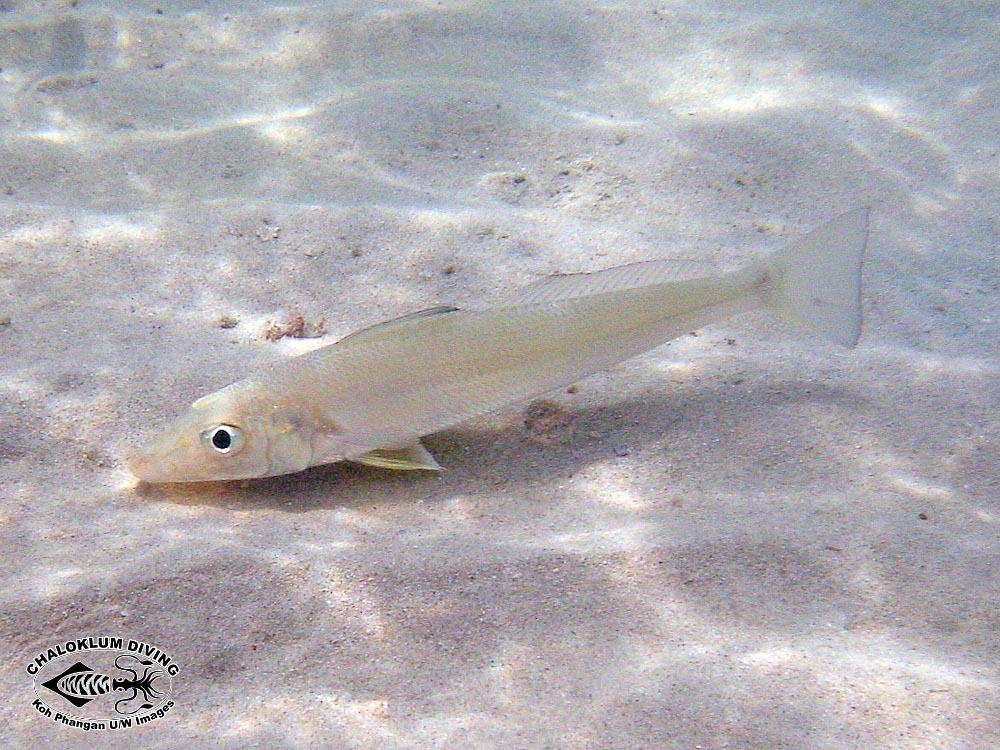kiss: (131, 206, 887, 502)
